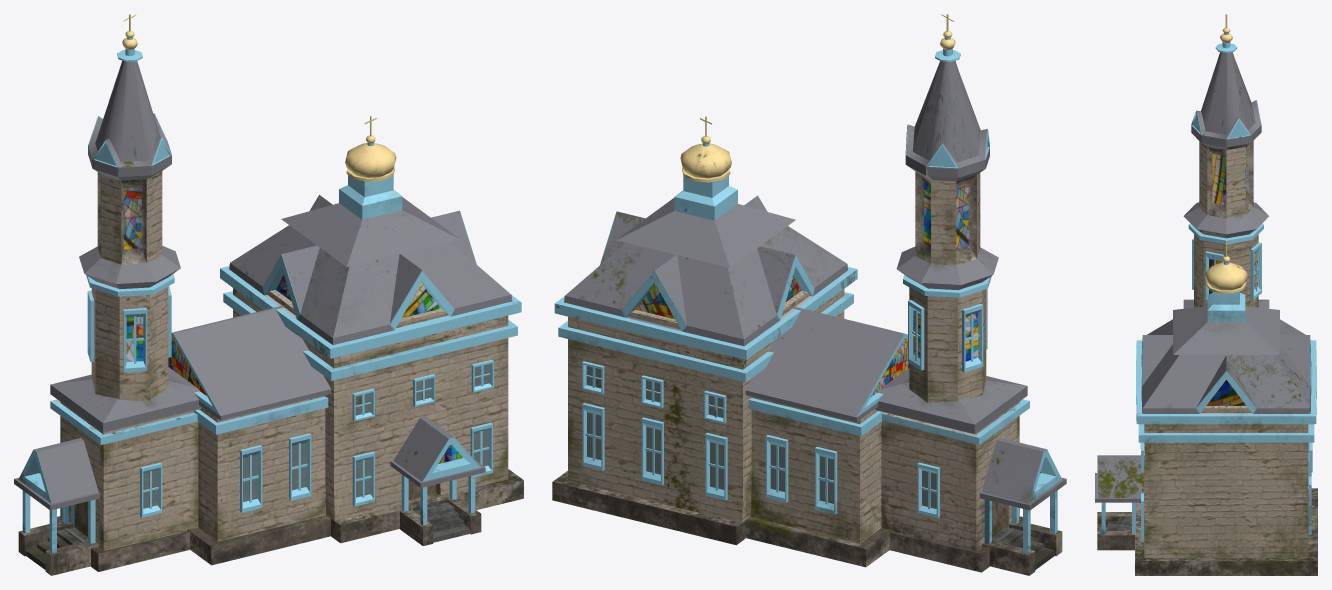
Rendered from hram_def (2).fbx.
3 renders of one model, left to right at view 1: azimuth 30°, elevation 25°; view 2: azimuth 150°, elevation 25°; view 3: azimuth 270°, elevation 25°, orthographic. The views are drawn at different scales.
Parts seen in each view (by area): view 1: hram; view 2: hram; view 3: hram.
Boxes of the visible parts, x1,y1,x2,y2 form: hram: [14, 14, 523, 575]; hram: [552, 14, 1066, 575]; hram: [1095, 14, 1317, 575].
Size of the model in its own units: 3444 by 3964 by 1871.
1 material, 1 textured.
